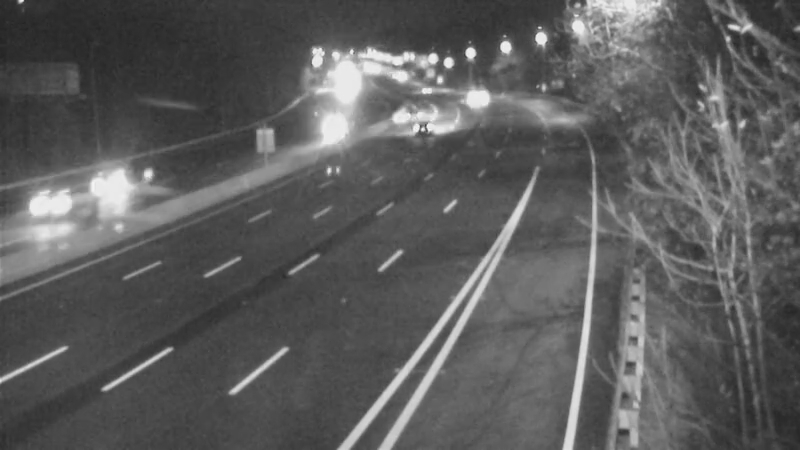vehicle: (7, 170, 87, 250), (74, 140, 154, 220), (453, 73, 503, 123), (396, 65, 446, 115), (380, 90, 430, 140), (400, 102, 450, 152), (308, 105, 358, 155)
